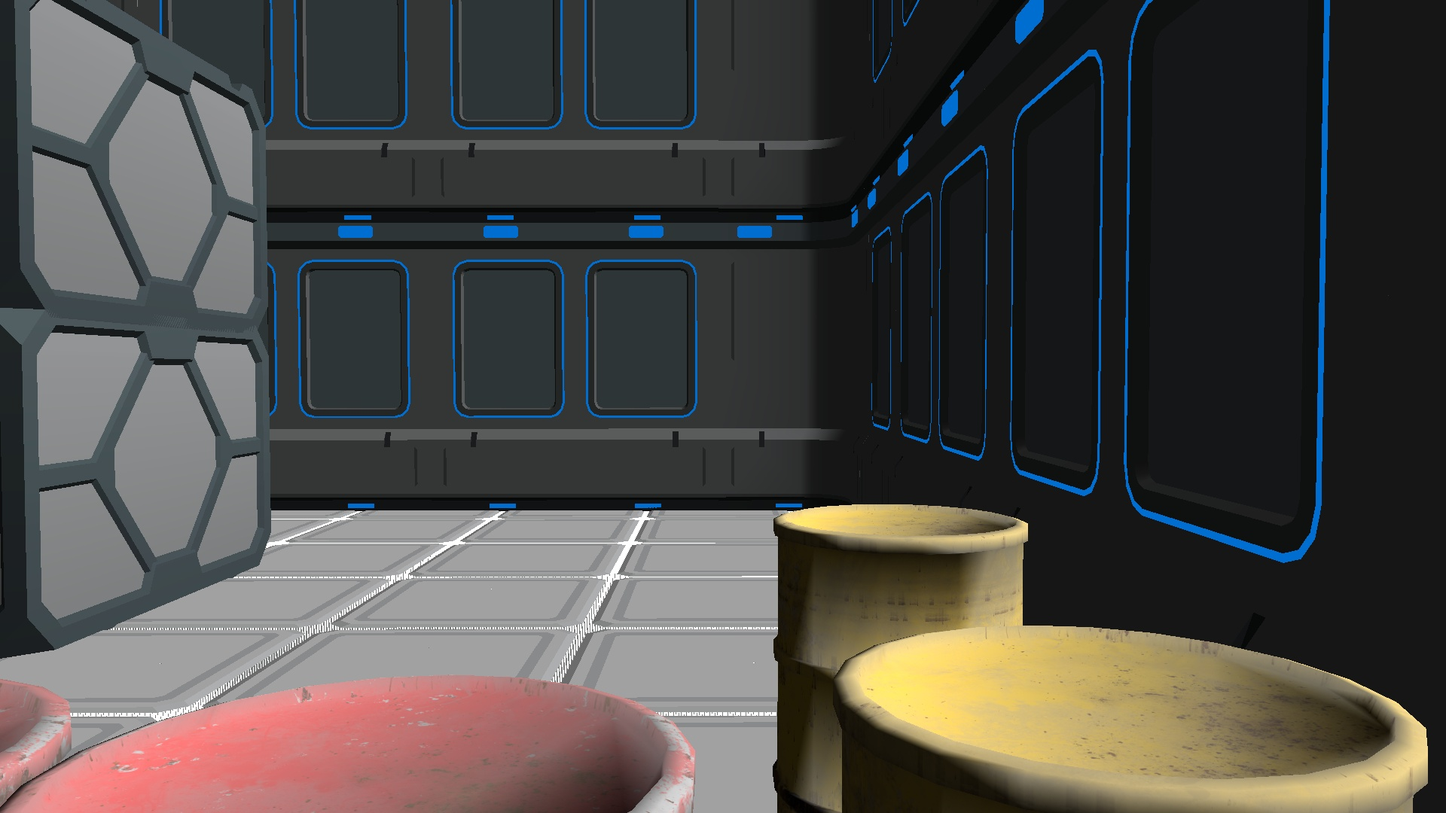toxic barrel: (834, 625, 1428, 813), (0, 673, 695, 813), (772, 504, 1027, 813), (0, 676, 73, 813)
